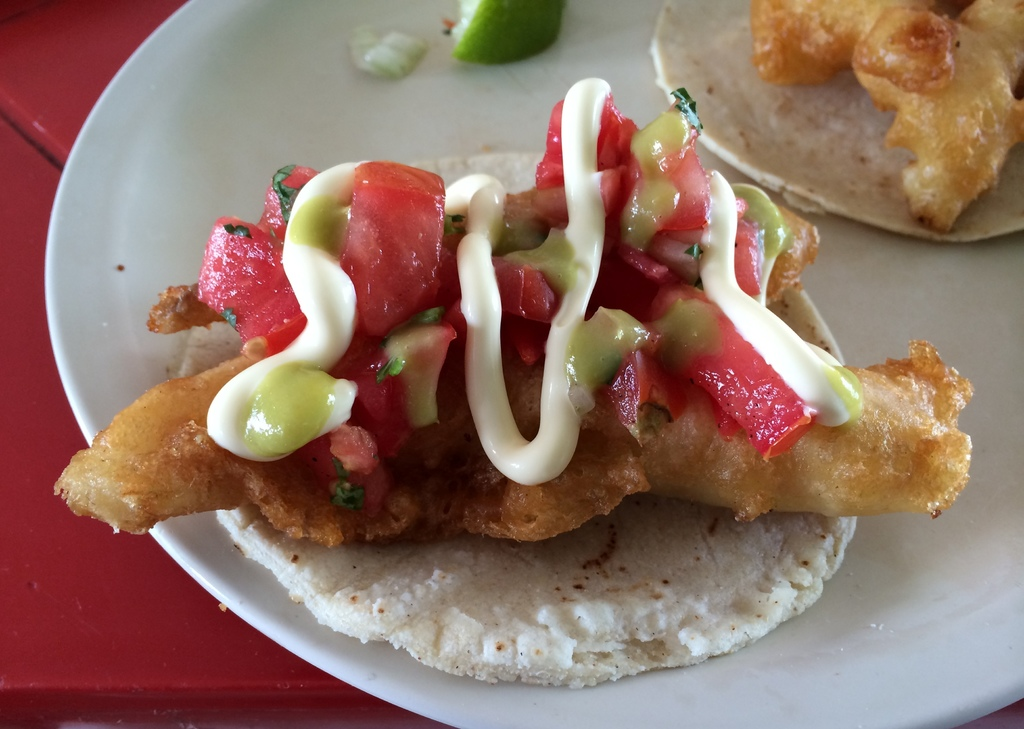taco: (51, 73, 975, 690), (646, 0, 1023, 249)
